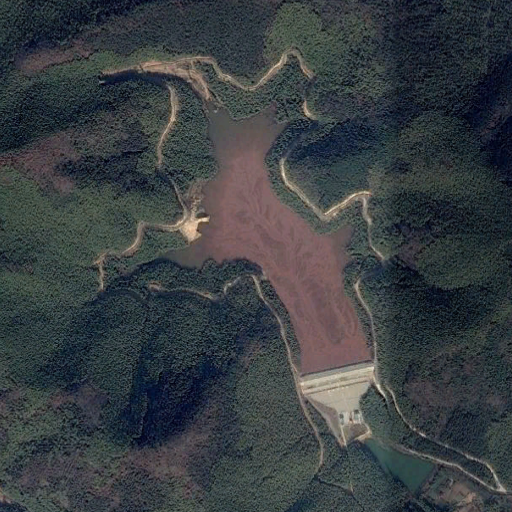tp: (158, 101, 375, 413)
